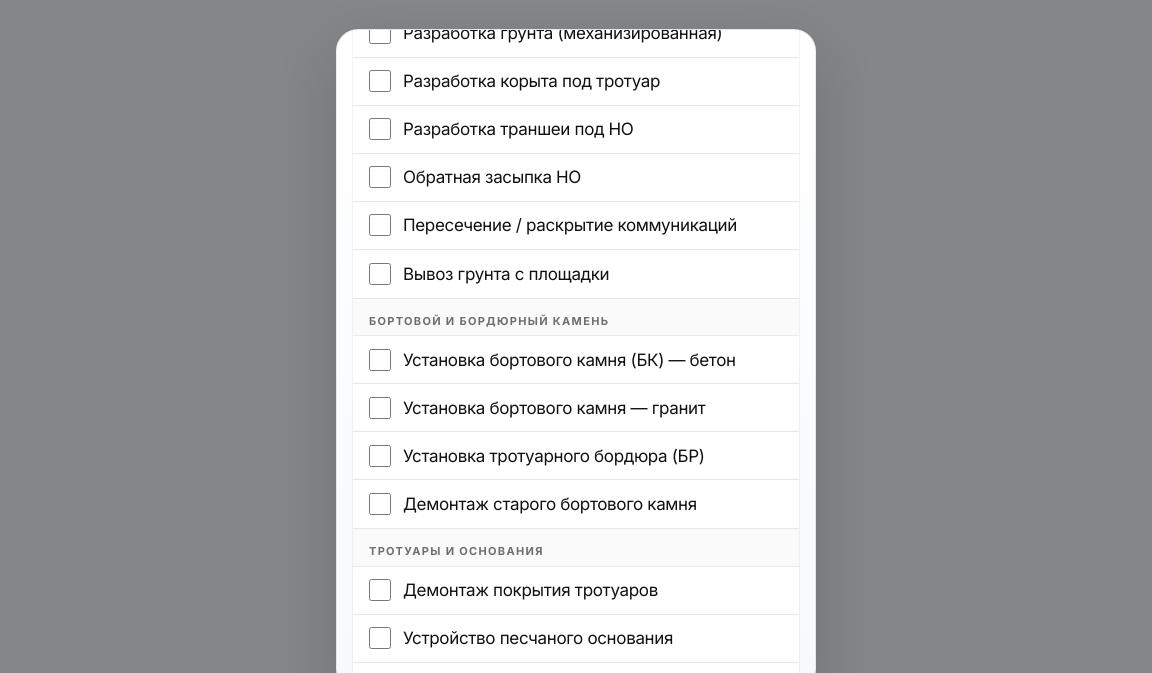
Test: BrigadierReportModal — объём выполненной работы › не сохраняет отчёт с пустым ответственным
This screenshot has width=1152, height=673.
(page scrolled)
Click the checkbox labelled "Установка бортового камня (БК) — бетон" at {"x": 380, "y": 360}, box [369,349,391,371]
(page scrolled)
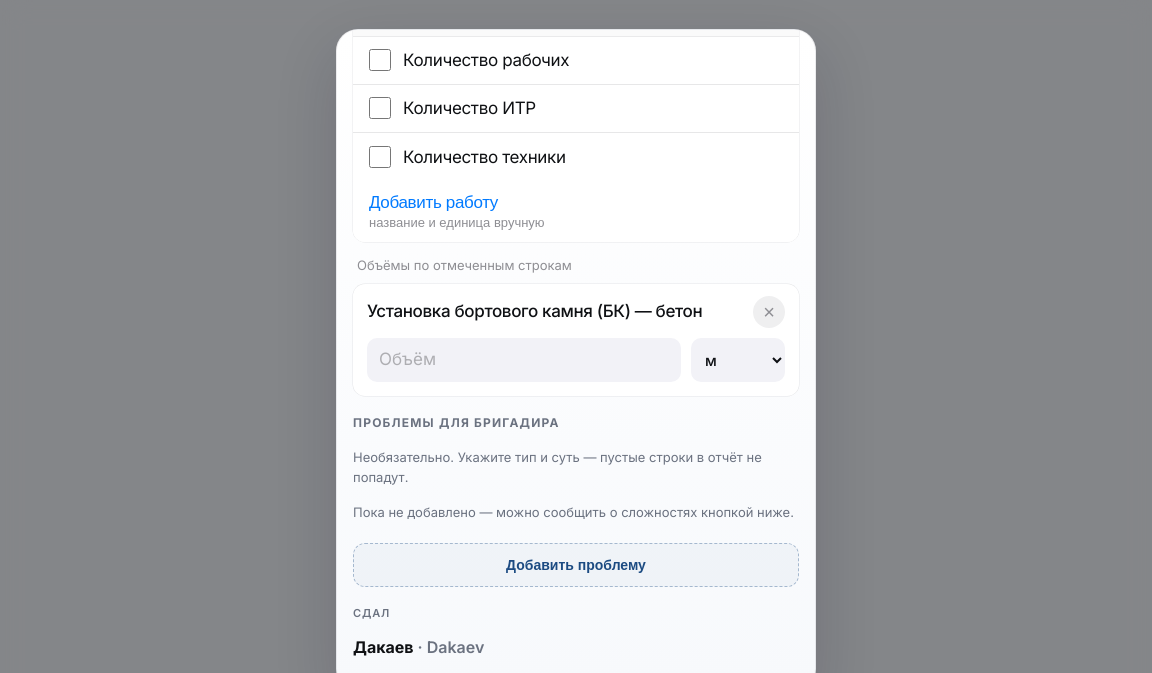
Type "10" into the field named "Объём: Установка бортового камня" at {"x": 524, "y": 360}, box [367,338,681,382]
(page scrolled)
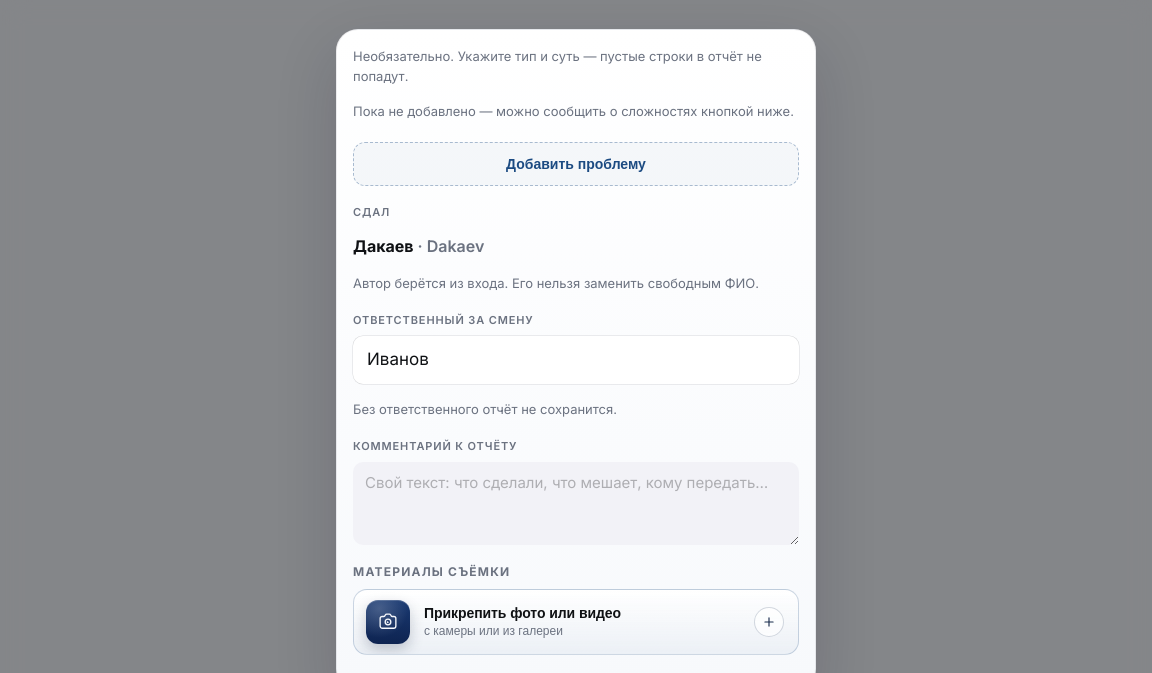
Replace the text in the field labelled "Ответственный за смену" with "—" at {"x": 576, "y": 360}, box [353,336,799,384]
(page scrolled)
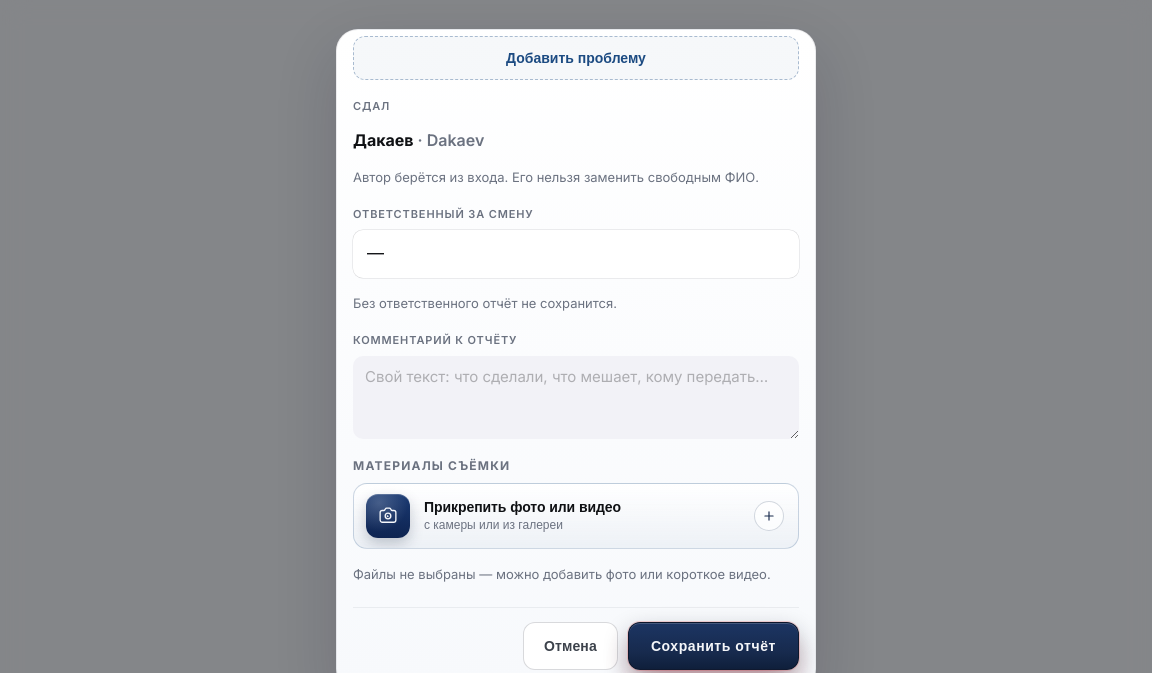
Click the button "Сохранить отчёт" at {"x": 713, "y": 646}, box [628,622,799,670]
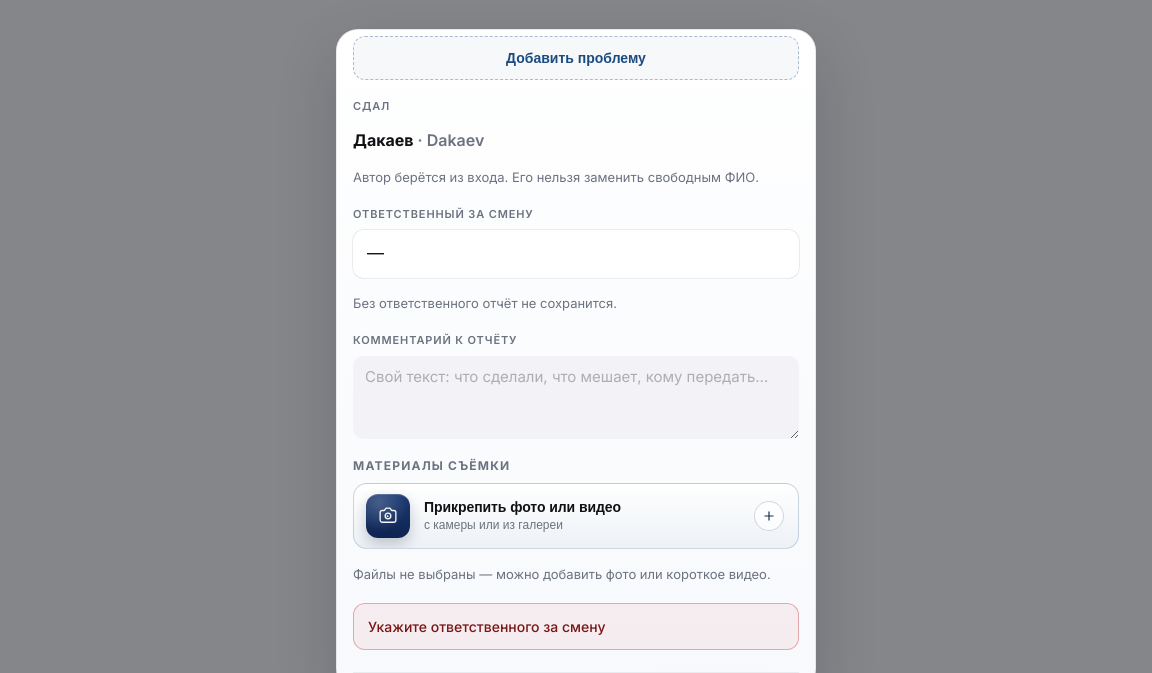
Result: the text "Укажите ответственного за смену" is shown at [353,602,799,650]
